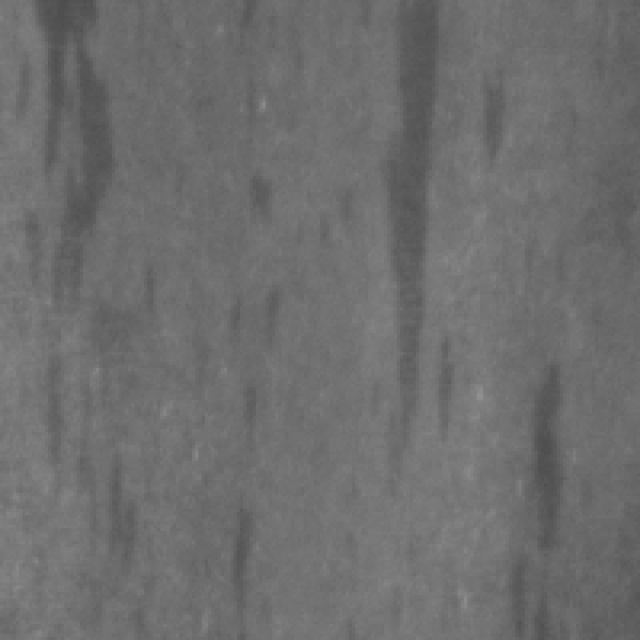inclusion: (0, 0, 136, 310), (363, 0, 438, 467), (510, 357, 567, 621), (220, 266, 292, 452), (457, 68, 537, 178), (204, 489, 262, 640), (28, 335, 78, 493)
